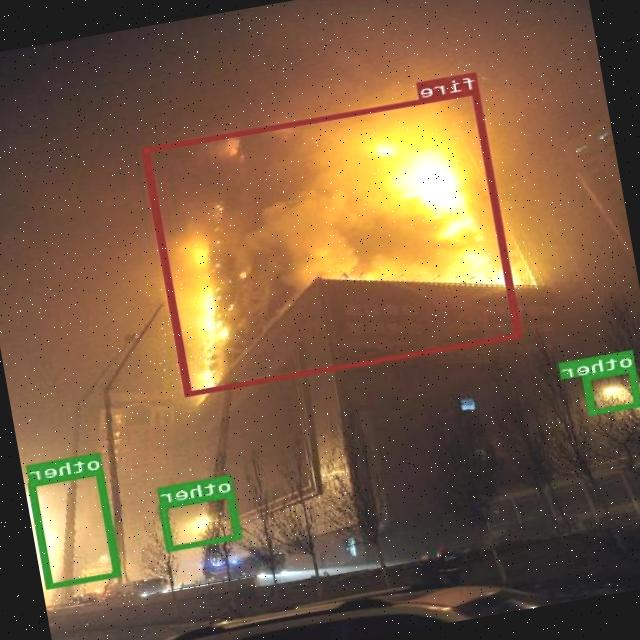fire: (142, 87, 524, 396)
